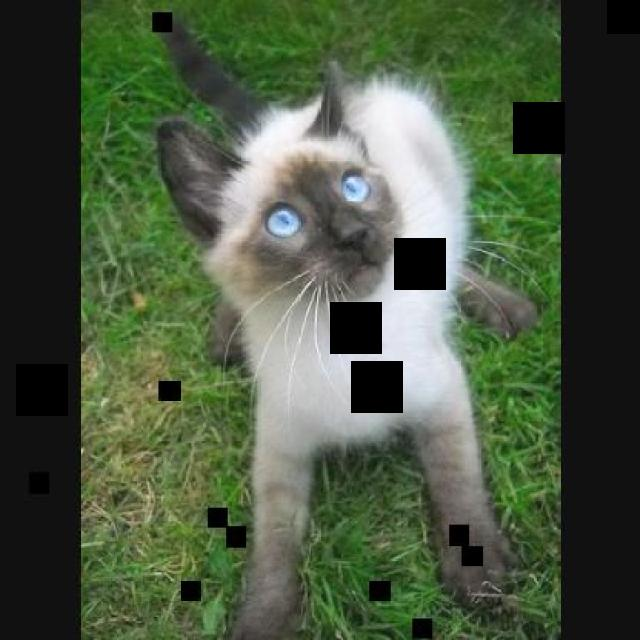unauthorized: (151, 14, 540, 638)
